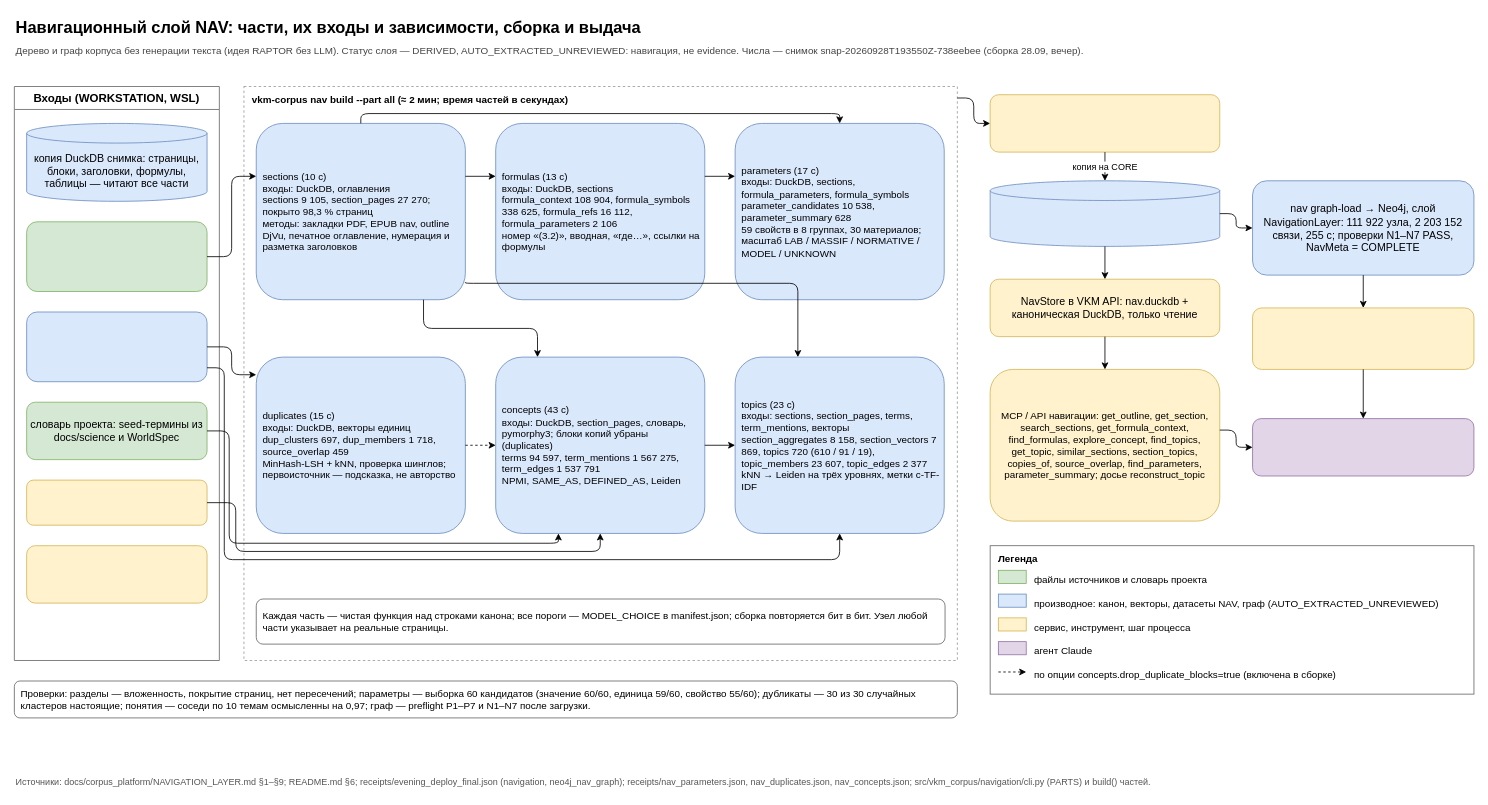
The diagram is 1488 pixels wide and 805 high, and some of its shapes have lost their labels. The shapes that lost their labels are listed below. From the top down, each one's centre as x and y in pixels, then its label:
(x=1104, y=123): store.pack → nav.duckdb (sha256 b567979e…) + manifest.json
(x=1104, y=213): CORE: derived/navigation/<снимок> + CURRENT (sha256 сверены на обеих сторонах)
(x=116, y=256): оглавления файлов: закладки PDF, навигация EPUB, outline DjVu (JSON на снимок)
(x=116, y=346): векторы единиц: dense jina-v5-nano (набор снимка; чужой text_hash отбрасывается)
(x=1363, y=338): concept_paths, graph_neighbourhood (ответ только при COMPLETE, иначе 503)
(x=1363, y=447): Claude: сводка ветки в момент вопроса, со ссылками на страницы
(x=116, y=502): морфология pymorphy3 (extra navigation)
(x=116, y=574): GPU RAPIDS: CuPy, cuML, cuGraph, cuVS; без GPU — numpy и Louvain
